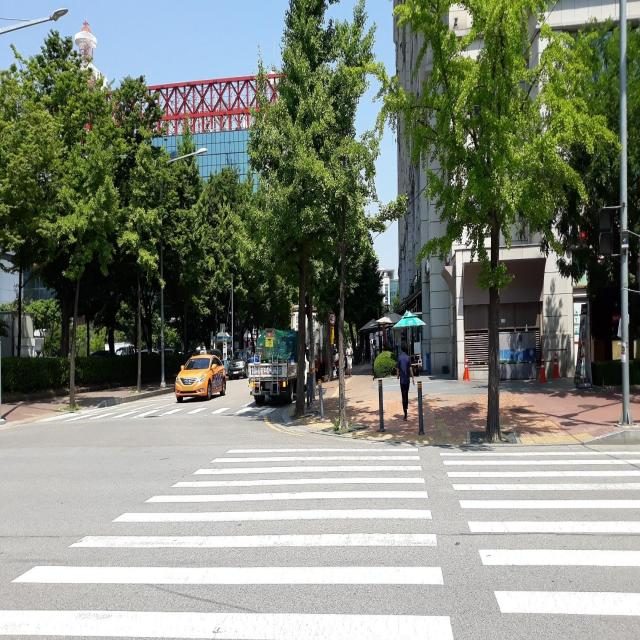횡단보도: (0, 443, 640, 640), (50, 403, 274, 423)
